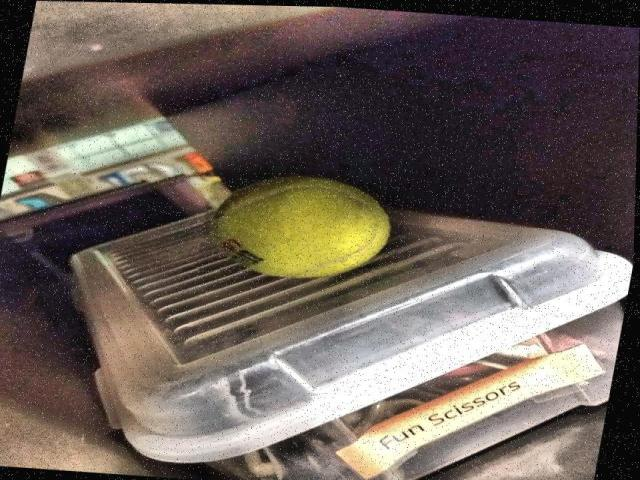tennis-ball: (211, 174, 391, 280)
